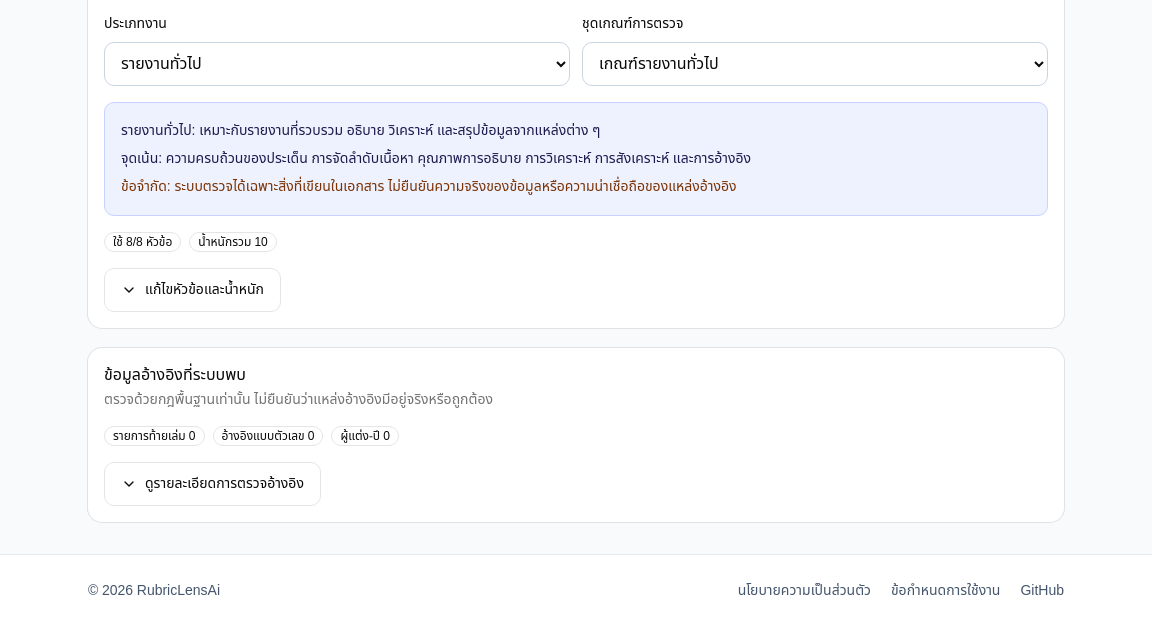
Test: App › rejects a rubric with a negative weight
The image size is (1152, 627).
(page scrolled)
Click the button "แก้ไขหัวข้อและน้ำหนัก" at (192, 290), box [104,268,281,312]
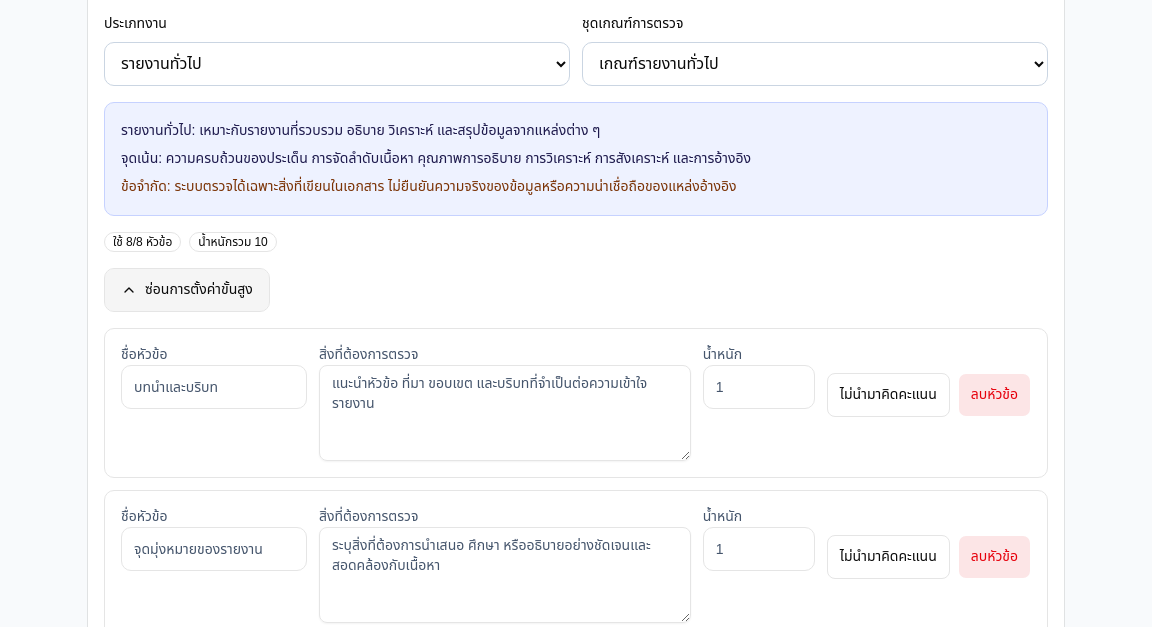
Replace the text in the number field named "น้ำหนัก บทนำและบริบท" with "-1" at (759, 387), box [703,365,815,409]
(page scrolled)
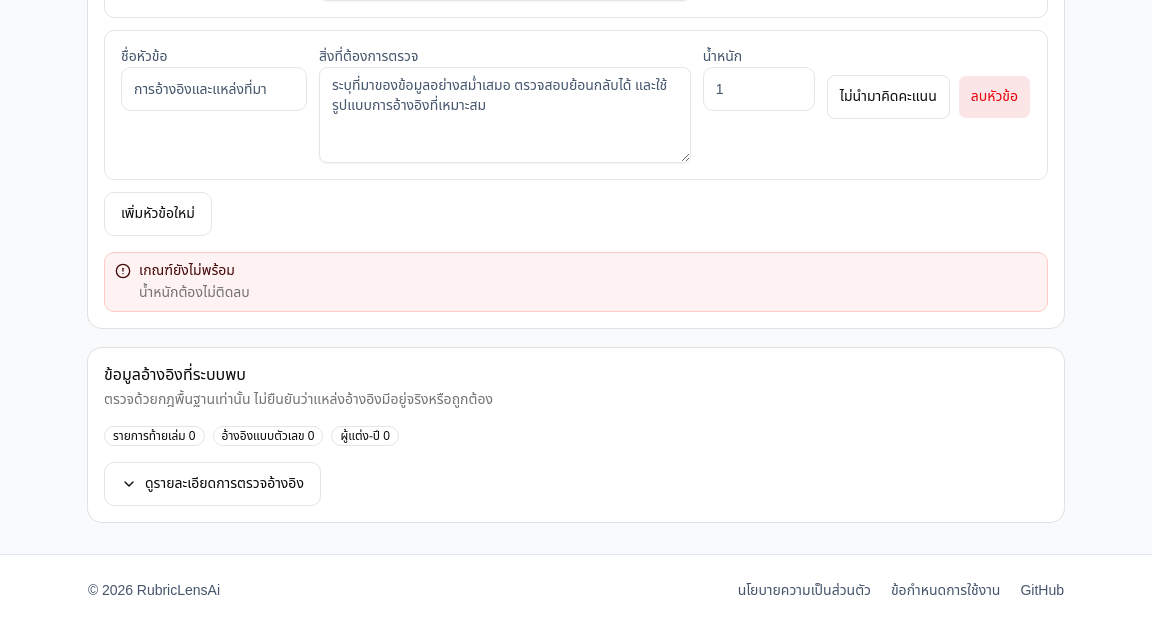
Result: the text "น้ำหนักต้องไม่ติดลบ" is shown at [139,282,250,303]
